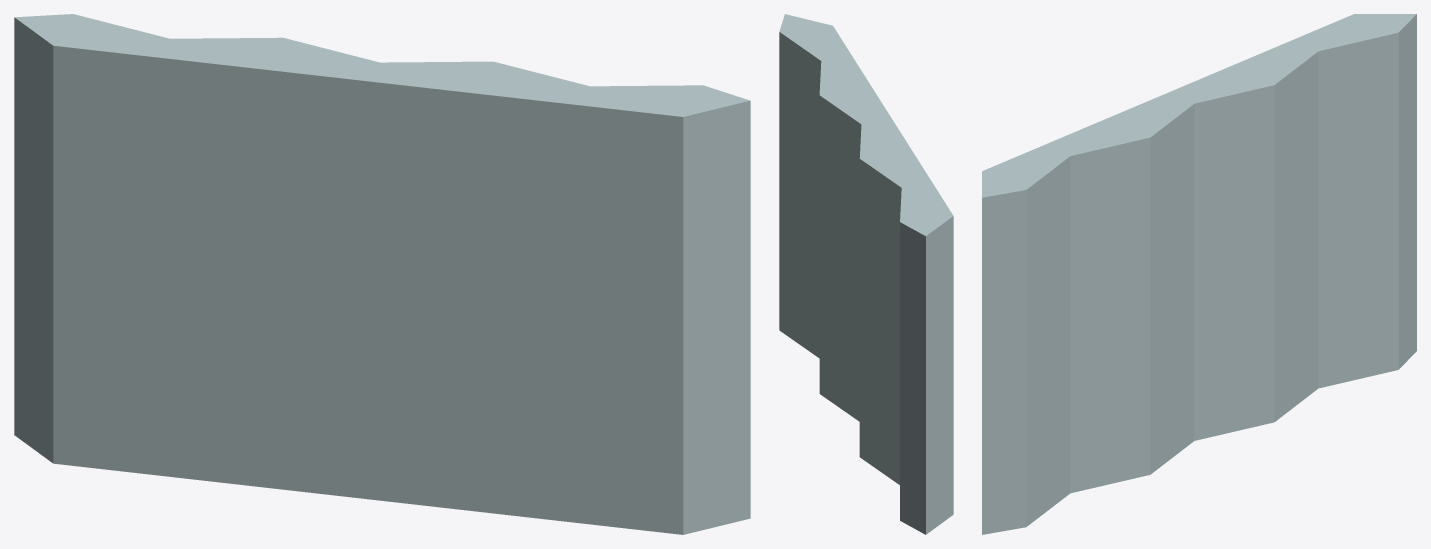
Rendered from cliff_diagonal_stone.glb.
3 views of the same model, side by side, from view 1: azimuth 30°, elevation 25°; view 2: azimuth 150°, elevation 25°; view 3: azimuth 270°, elevation 25° (orthographic). The views are drawn at different scales.
Parts seen in each view (by area): view 1: cliff_diagonal_stone; view 2: cliff_diagonal_stone; view 3: cliff_diagonal_stone.
Part boxes in pixels (left/top/right/bottom): cliff_diagonal_stone: left=14, top=14, right=750, bottom=534; cliff_diagonal_stone: left=779, top=14, right=953, bottom=534; cliff_diagonal_stone: left=982, top=14, right=1416, bottom=534.
Bounding box in the file's own units: 1.17 × 1 × 1.17.
